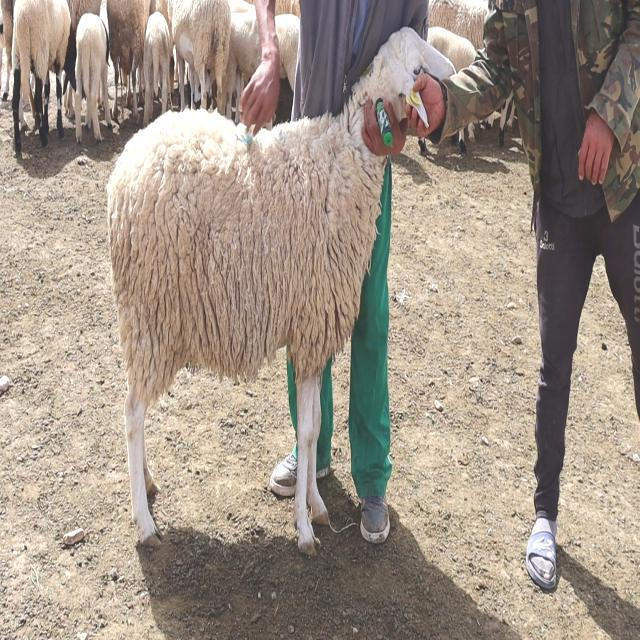Score_2: (107, 27, 455, 554)
